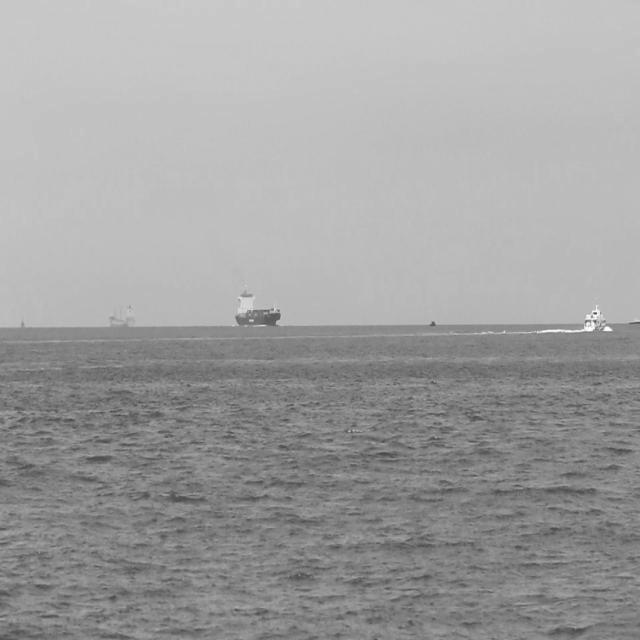ship: (233, 278, 284, 330), (580, 298, 610, 336), (106, 296, 138, 330), (628, 313, 640, 327)
